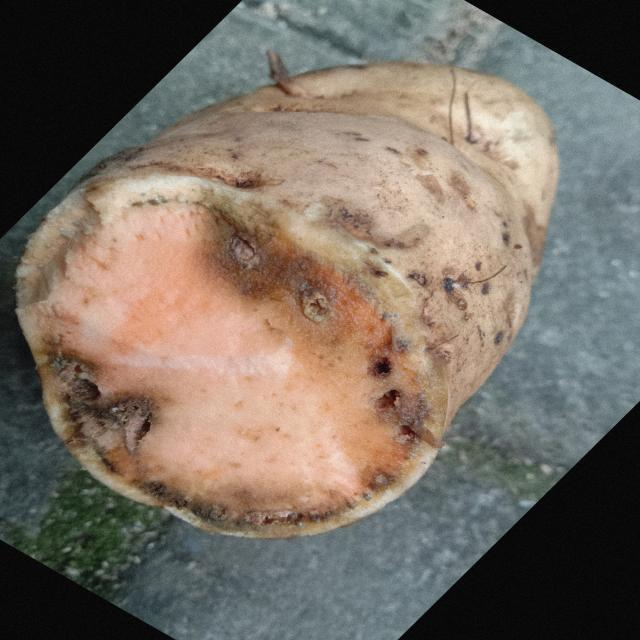Sick Sweet Potato_Tuber Rot: (17, 168, 447, 538)
